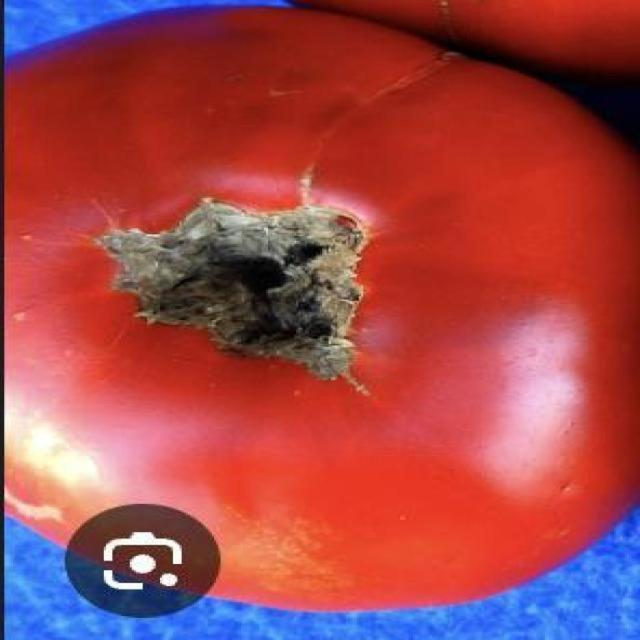Blossom End Rot Fruit: (61, 126, 246, 256)
